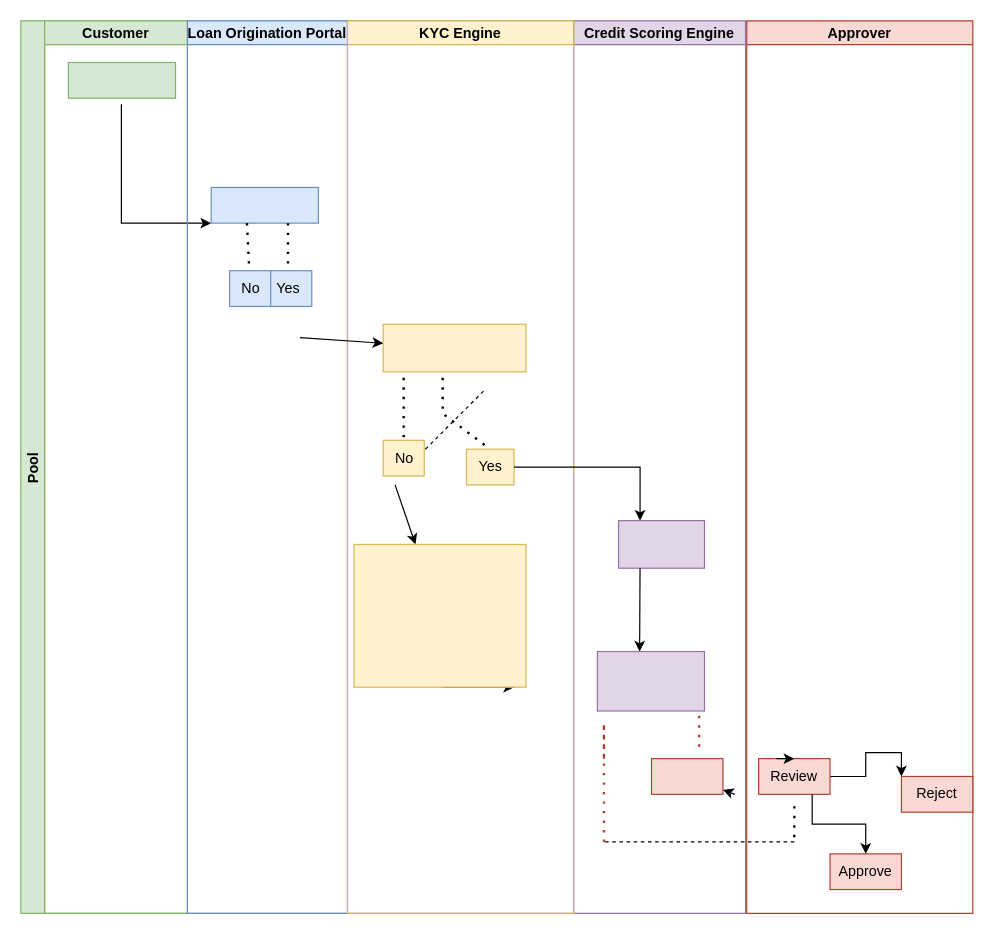
The diagram is 994 pixels wide and 934 high, and some of its shapes have lost their labels. The centre of each missing label's shape, as x and y in pixels:
"Application complete" belongs at point (264, 204).
"Auto Approval" belongs at point (686, 775).
"Credit score Fetch" belongs at point (660, 543).
"KYC Validation Pass" belongs at point (454, 347).
"Risk Assessment" belongs at point (650, 680).
"Route to Manual Review" belongs at point (439, 615).
"Upload Documents" belongs at point (121, 79).
